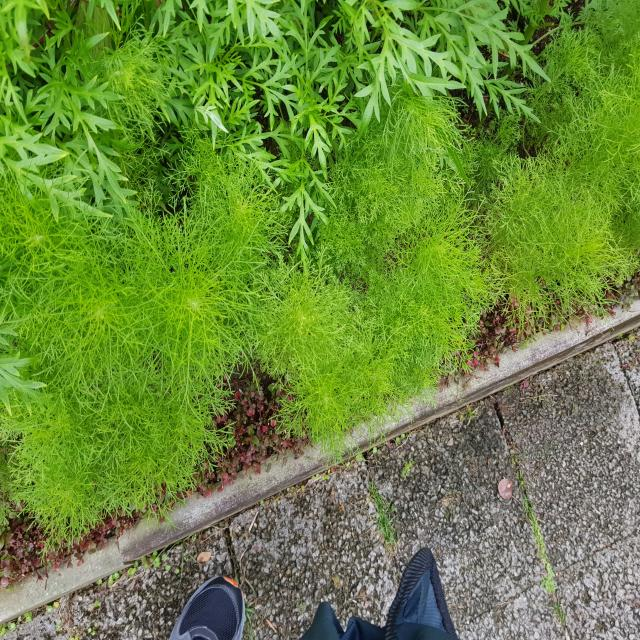Dill: (0, 190, 238, 486), (234, 210, 401, 427), (550, 4, 640, 260)
